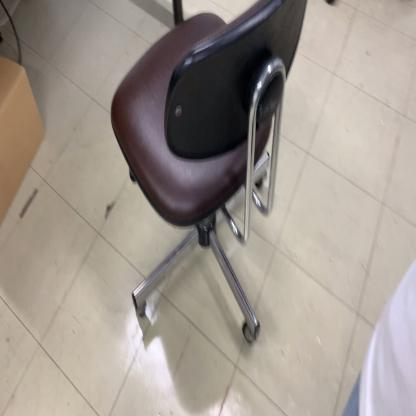chair: (110, 0, 310, 345)
